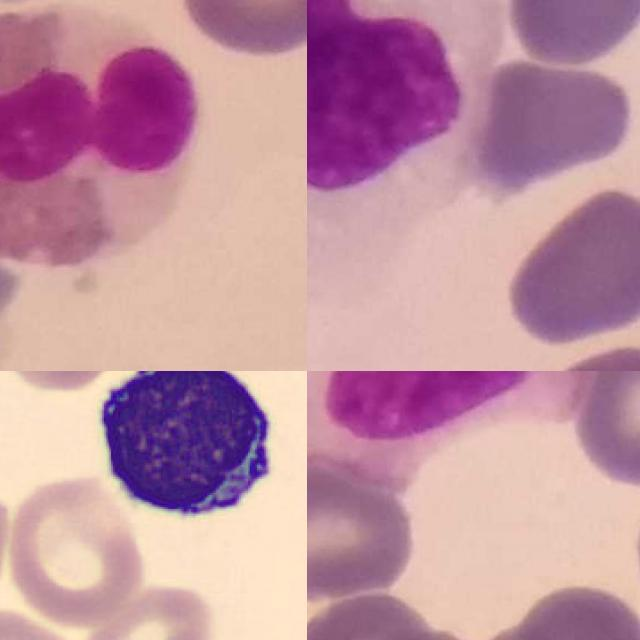Eosinophil: (0, 0, 201, 268)
Lymphocyte: (82, 371, 290, 538)
Monocyte: (307, 0, 504, 226), (307, 371, 633, 491)
RBC: (3, 470, 149, 631), (75, 581, 219, 640)
